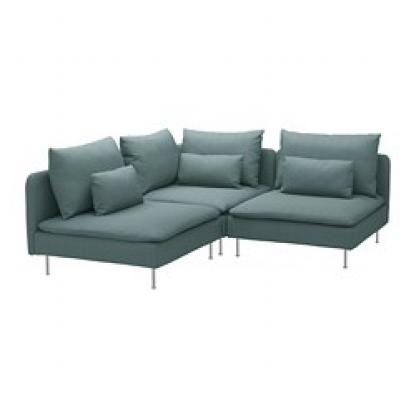Sofa: (15, 85, 394, 304)
